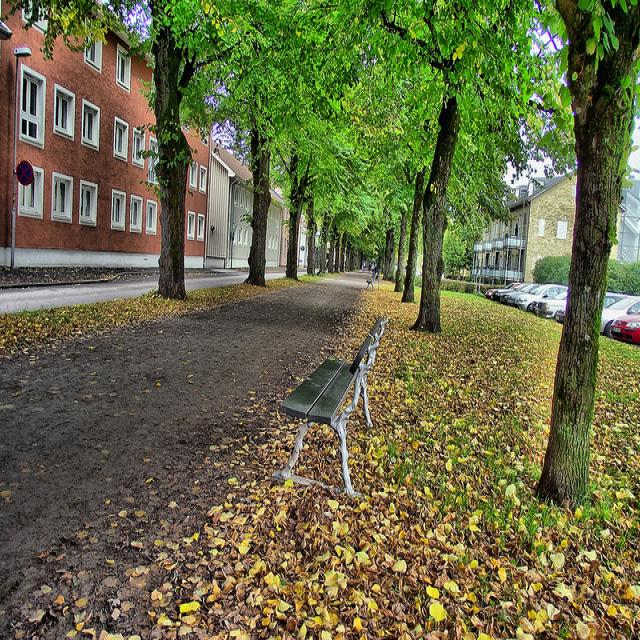Vehicle: (601, 294, 639, 338), (514, 284, 568, 312), (612, 298, 640, 347), (534, 286, 568, 320), (492, 282, 538, 302), (499, 283, 542, 304), (486, 282, 522, 299), (601, 292, 626, 312)
